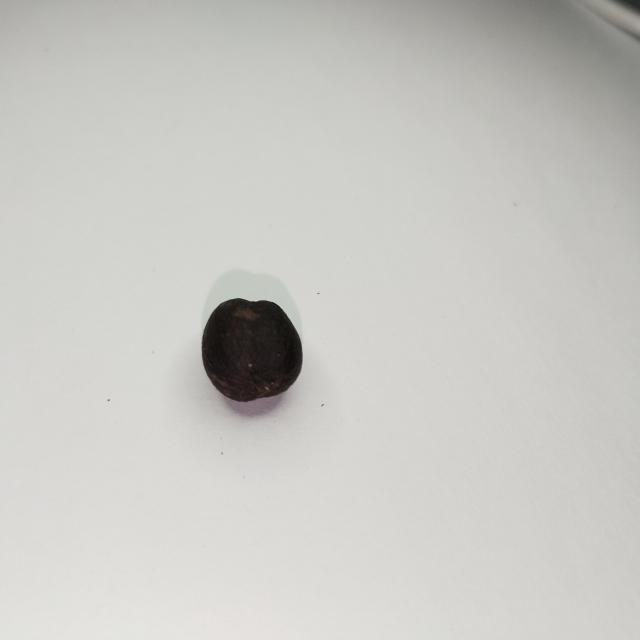Danado: (202, 300, 301, 401)
